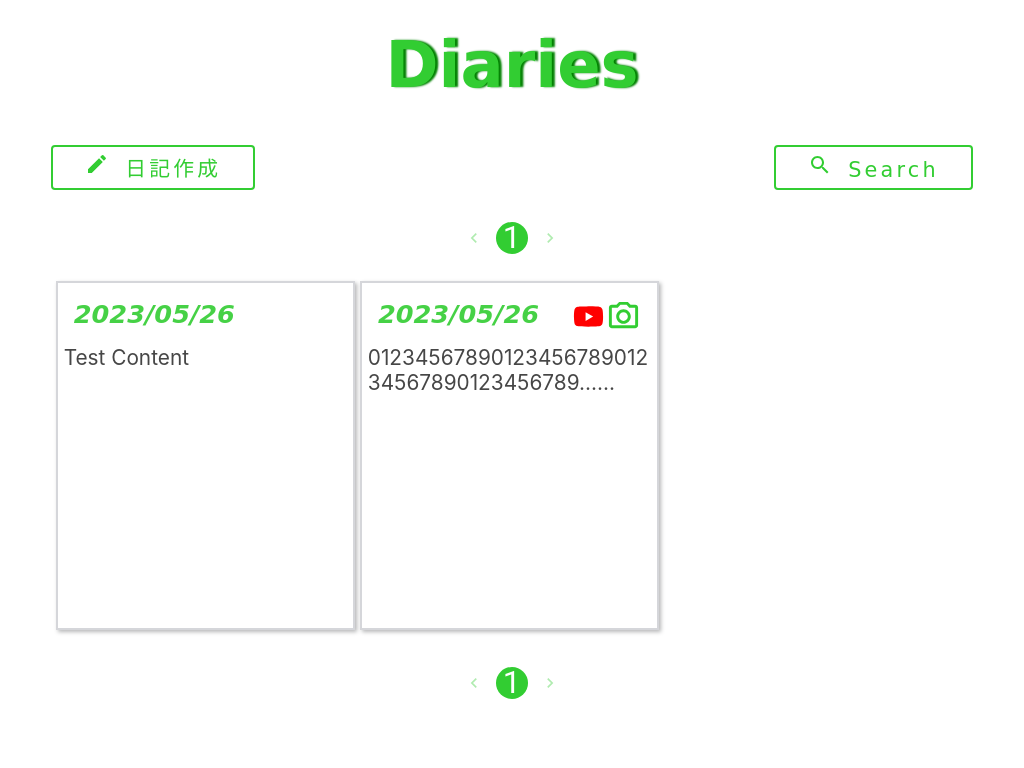
Test: LoginHome › DiaryDialog初期値(タグなし, 画像なし, 動画urlなし) › 日記をクリックすると表示
(page scrolled)
Click the list item with test id "diary-0" at x=205, y=455, box [56, 280, 355, 630]
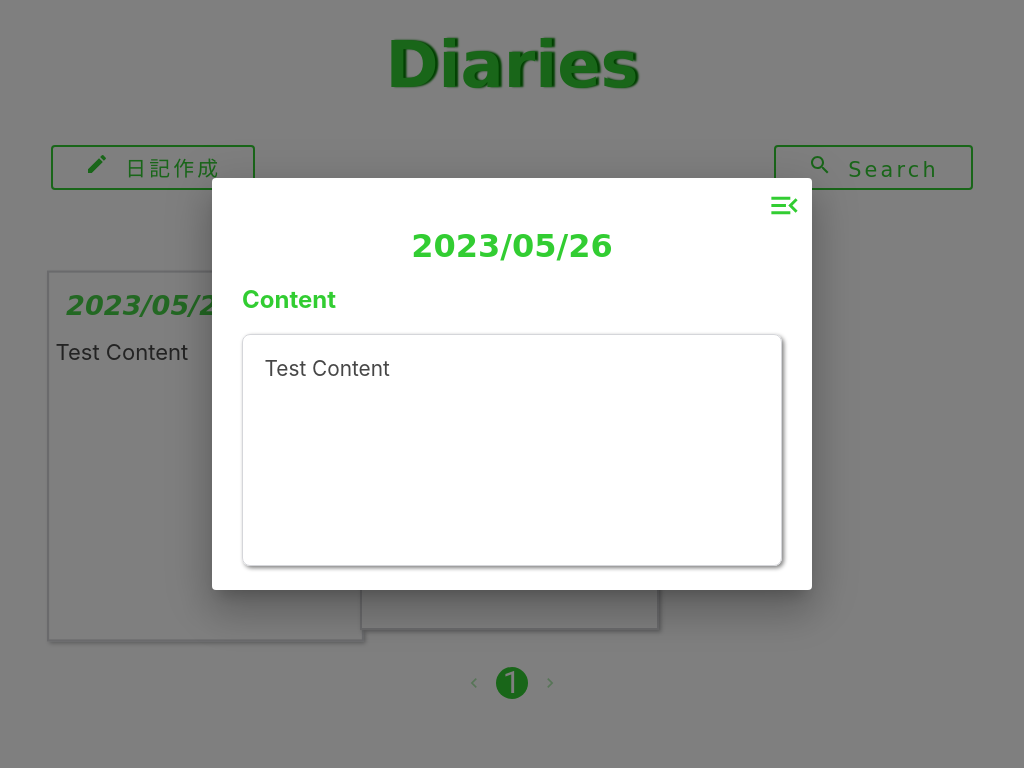
Now the element with test id "diaryDialog" is shown
